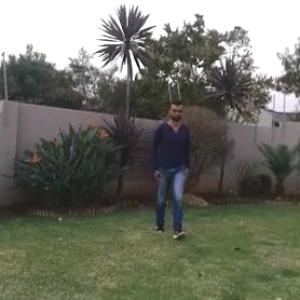follow: (153, 101, 190, 229)
